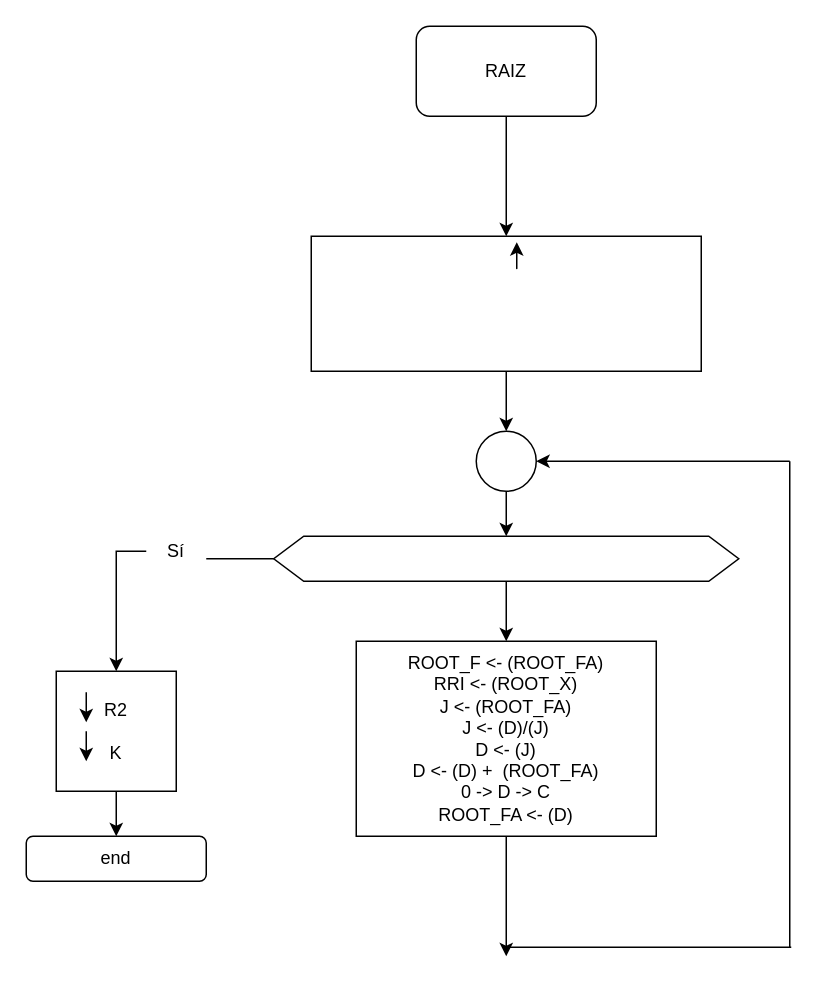
Some shapes in this 828 by 995 pixel diagram are drawn without their labels. The shapes that lost their labels are listed below. From the top down, each one's centre as x and y in pixels, then its label:
At (x=505, y=303): "K R! <- $0 R2 ROOT_X <- (RR!) ROOT_F <- 0".
At (x=505, y=558): "RR! = ROOT_F".
